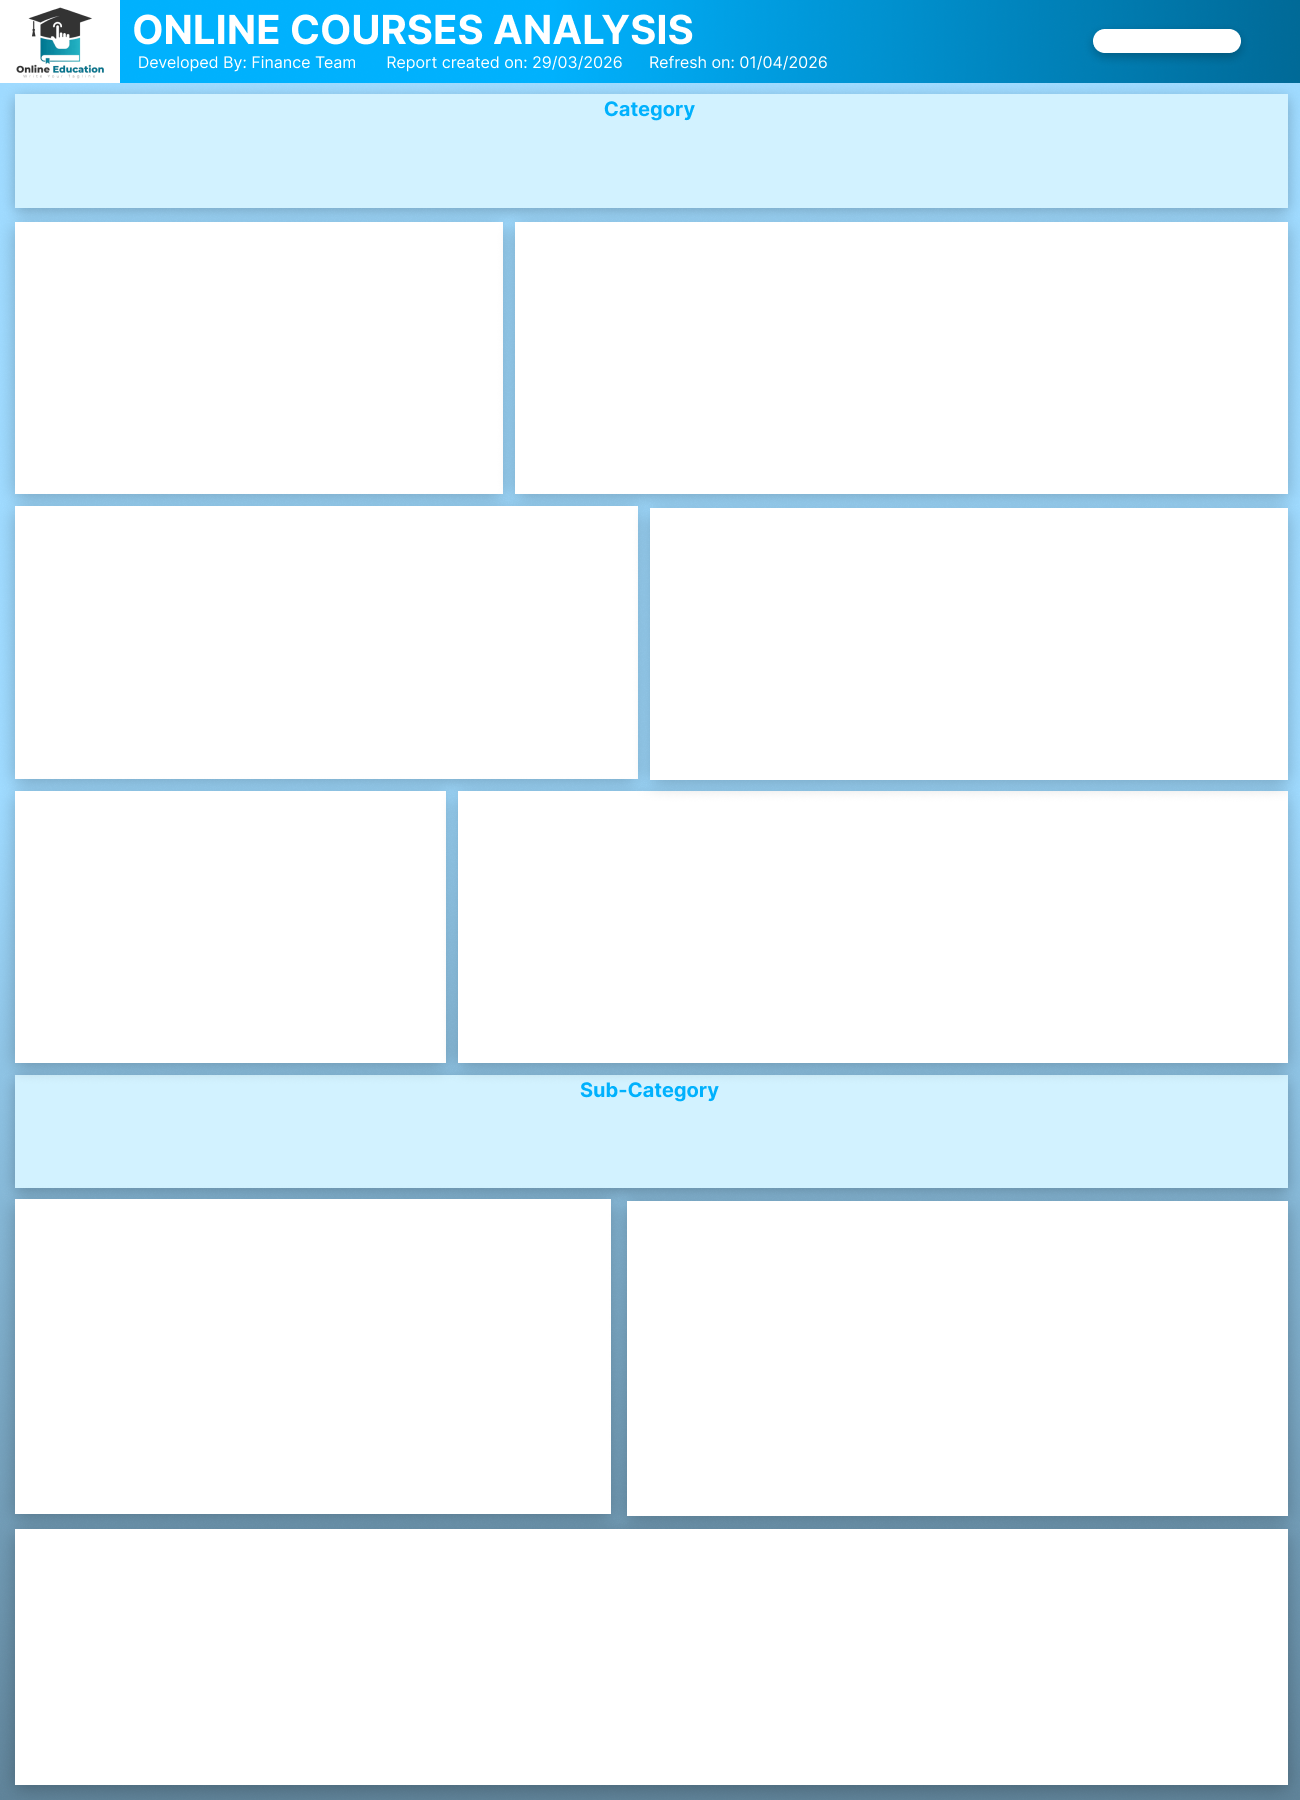

The page's visual inventory and layout, read from the dashboard file:
{"tool":"powerbi","page":{"name":"Second_Templete","canvas":[1300,1800],"ordinal":1},"visuals":[{"type":"slicer","fields":{"Values":["Online_Courses.Category"]},"box":[0,121.7,1300,85],"z":0},{"type":"columnChart","title":"Course Type Popularity","fields":{"Category":["Online_Courses.Course Type"],"Y":["CountNonNull(Online_Courses.Course ID)"]},"box":[14,227,489,267],"z":1000},{"type":"clusteredBarChart","title":"Course as per Language and sub-category ","fields":{"Category":["Online_Courses.Sub-Category","Online_Courses.Language"],"Y":["Avg(Online_Courses.Number of viewers)"]},"box":[515.4,226.9,771.5,266.2],"z":2000},{"type":"WordCloud1447959067750","title":"Demanding Skills","fields":{"Category":["Online_Courses.Skills"]},"box":[14,512,623,266],"z":3000},{"type":"donutChart","title":"Most Prominent Languages","fields":{"Category":["Online_Courses.Language"],"Y":["CountNonNull(Online_Courses.Course ID)"]},"box":[650,513,637,266],"z":4000},{"type":"pivotTable","fields":{"Rows":["Online_Courses.Category","Online_Courses.Language"],"Values":["Online_Courses.Rank_Category_by_avg_views"]},"box":[13.8,790,430,272.5],"z":5000},{"type":"lineChart","title":"Number of viewers as per Subtitle","fields":{"Category":["Online_Courses.Subtitle_language_count"],"Y":["Avg(Online_Courses.Number of viewers)"]},"box":[458.3,796,830,266],"z":6000},{"type":"clusteredColumnChart","fields":{"Category":["Online_Courses.Instructors"],"Y":["Teachers.Instructor_rating"]},"box":[15,1530,1271.7,255],"z":7000},{"type":"slicer","fields":{"Values":["Teachers.Sub-Category"]},"box":[0,1101.7,1300,85],"z":8000},{"type":"lineChart","title":"Viewership on the Basis of Lecture Duration","fields":{"Category":["Online_Courses.Duration in Hours"],"Y":["Avg(Online_Courses.Number of viewers)"]},"box":[636.7,1205,638.3,311.7],"z":9000},{"type":"pivotTable","fields":{"Rows":["Online_Courses.Category","Online_Courses.Sub-Category"],"Values":["Avg(Online_Courses.Count of Skills Provided)","Avg(Online_Courses.Duration in Hours)"]},"box":[15,1205,595,312],"z":10000},{"type":"actionButton","title":"Clear All Selection","box":[1100,23.8,137.5,30],"z":11000}]}

Visuals, with their boxes in screenshot pixels (x1, y1, x2, y2), scaled from the page's 1300x1800 canvas onto the 1300x1800 screenshot:
slicer - Online_Courses.Category: rect(0, 122, 1299, 207)
"Course Type Popularity" columnChart: rect(14, 227, 503, 494)
"Course as per Language and sub-category " clusteredBarChart: rect(515, 227, 1287, 493)
"Demanding Skills" WordCloud1447959067750: rect(14, 512, 637, 778)
"Most Prominent Languages" donutChart: rect(650, 513, 1287, 779)
pivotTable - Online_Courses.Category x Online_Courses.Language: rect(14, 790, 444, 1062)
"Number of viewers as per Subtitle" lineChart: rect(458, 796, 1288, 1062)
clusteredColumnChart - Online_Courses.Instructors x Teachers.Instructor_rating: rect(15, 1530, 1287, 1785)
slicer - Teachers.Sub-Category: rect(0, 1102, 1299, 1187)
"Viewership on the Basis of Lecture Duration" lineChart: rect(637, 1205, 1275, 1517)
pivotTable - Online_Courses.Category x Online_Courses.Sub-Category: rect(15, 1205, 610, 1517)
"Clear All Selection" actionButton: rect(1100, 24, 1238, 54)
